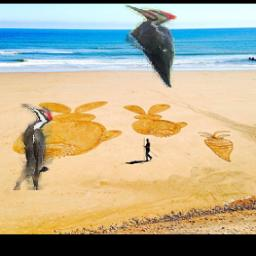Woodpecker: (123, 4, 178, 87), (13, 104, 52, 190)
